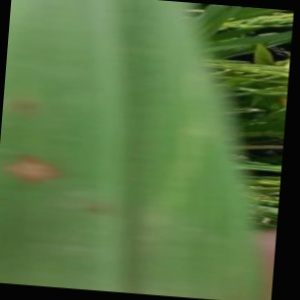Brown_Spot: (5, 135, 59, 199)
